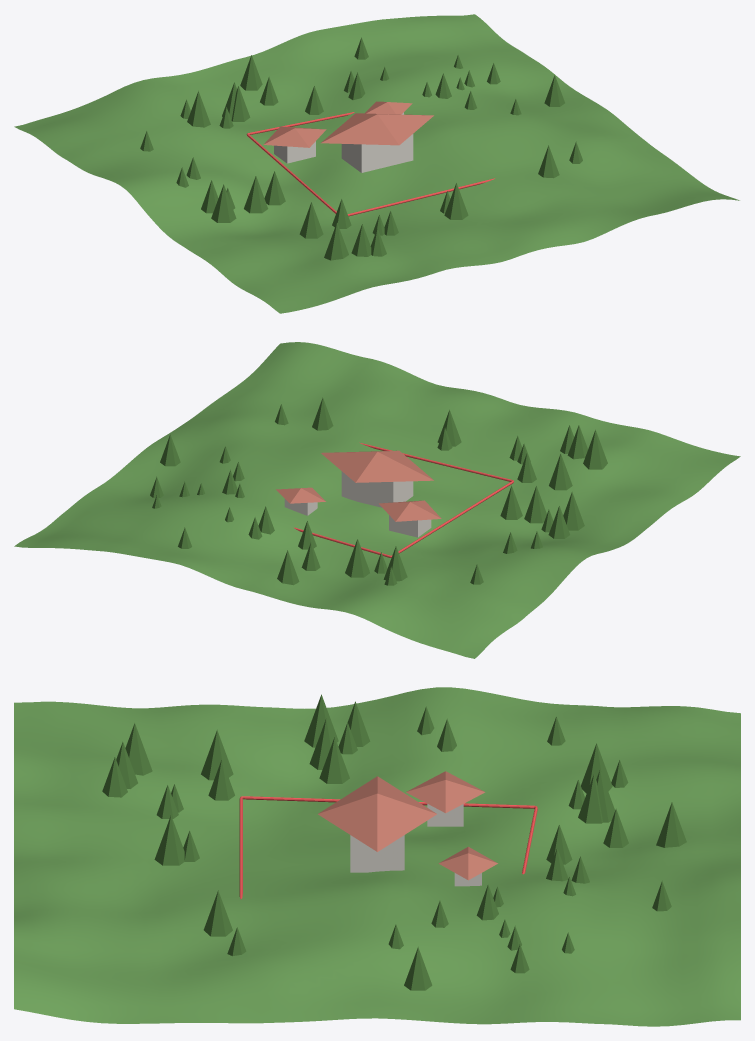
Rendered from kenai-realty.glb.
The picture shows the model from 3 angles, top to bottom: view 1: azimuth 30°, elevation 25°; view 2: azimuth 150°, elevation 25°; view 3: azimuth 270°, elevation 25°; orthographic projection. The views are drawn at different scales.
Visible parts, largest first — view 1: PropertyTerrain, Main House_Roof, Main House, PropertyBoundary, Garage_Roof, Garage, Cone.022, Cone.002, Cone.023, Cone.016, Cone.011; view 2: PropertyTerrain, Main House_Roof, Main House, PropertyBoundary, Garage_Roof, Garage, Cone.023, Shed_Roof, Cone.006; view 3: PropertyTerrain, Main House_Roof, Garage_Roof, Main House, PropertyBoundary, Shed_Roof, Cone.016, Cone.031, Cone.011, Cone.009, Cone.035, Cone.023 (+10 smaller).
Part boxes in pixels (<box>): PropertyTerrain: <box>14,14,739,313</box>; Main House_Roof: <box>321,113,433,145</box>; Main House: <box>341,134,413,172</box>; PropertyBoundary: <box>246,112,494,216</box>; Garage_Roof: <box>263,126,326,147</box>; Garage: <box>274,141,315,163</box>; Cone.022: <box>211,184,236,222</box>; Cone.002: <box>244,176,268,213</box>; Cone.023: <box>324,222,348,260</box>; Cone.016: <box>444,183,468,219</box>; Cone.011: <box>299,202,323,238</box>; PropertyTerrain: <box>14,342,740,658</box>; Main House_Roof: <box>321,450,433,482</box>; Main House: <box>341,471,413,507</box>; PropertyBoundary: <box>294,442,513,557</box>; Garage_Roof: <box>379,500,441,521</box>; Garage: <box>389,515,431,537</box>; Cone.023: <box>583,430,607,469</box>; Shed_Roof: <box>276,487,325,503</box>; Cone.006: <box>345,539,369,577</box>; PropertyTerrain: <box>14,687,740,1026</box>; Main House_Roof: <box>318,776,436,851</box>; Garage_Roof: <box>406,771,485,813</box>; Main House: <box>350,835,404,872</box>; PropertyBoundary: <box>239,796,537,899</box>; Shed_Roof: <box>438,846,497,880</box>; Cone.016: <box>154,815,184,865</box>; Cone.031: <box>319,737,349,783</box>; Cone.011: <box>201,730,233,780</box>; Cone.009: <box>656,802,686,847</box>; Cone.035: <box>203,890,232,936</box>; Cone.023: <box>125,723,152,775</box>.
Size of the model in its own units: 16 by 2.13 by 16.
